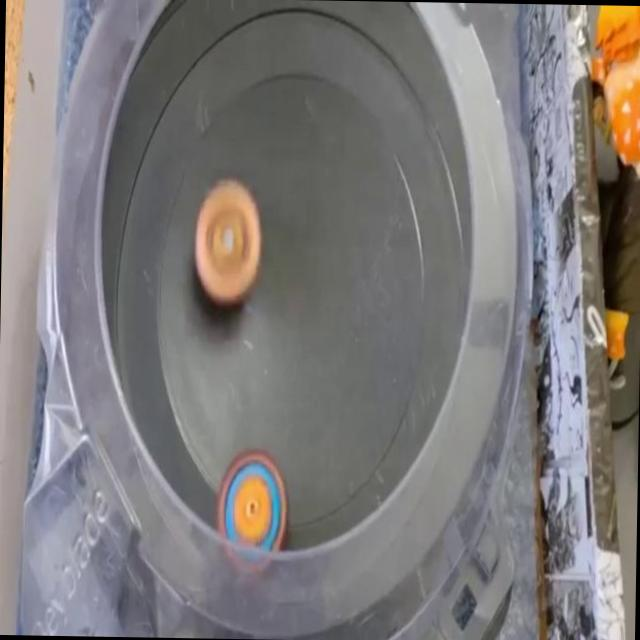Beyblade: (215, 450, 288, 581), (194, 177, 261, 306)
